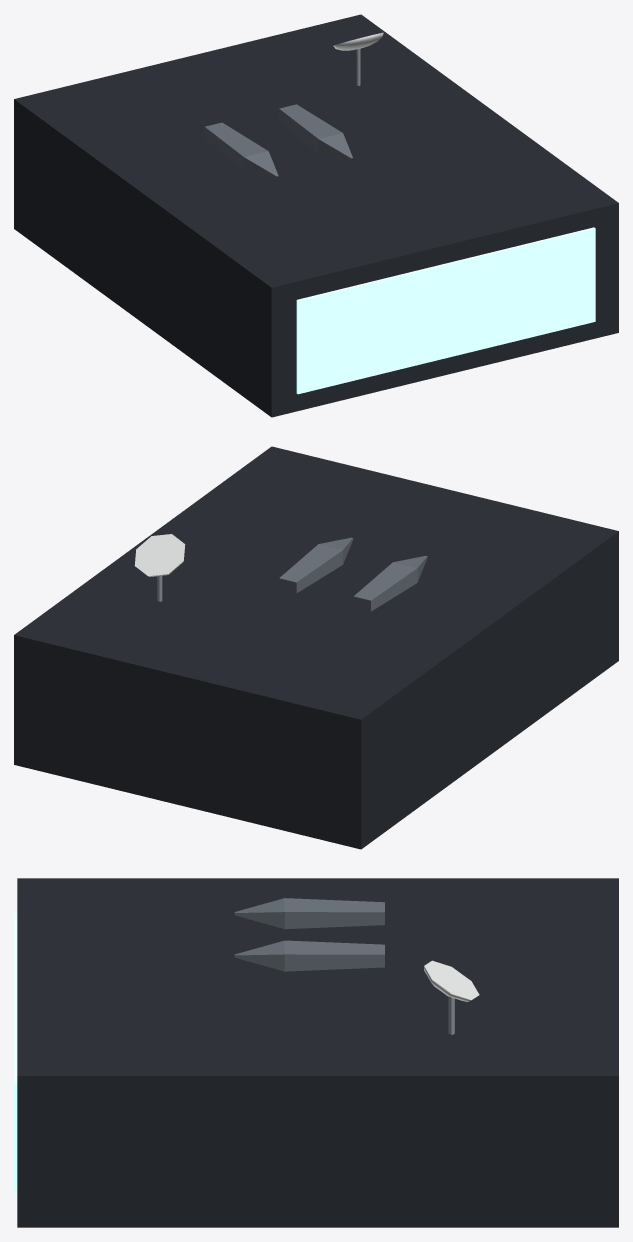
Rendered from space_orbital_hangar_t2_lod1.glb.
3 views of the same model, one above another, from view 1: azimuth 30°, elevation 25°; view 2: azimuth 150°, elevation 25°; view 3: azimuth 270°, elevation 25° (orthographic). The views are drawn at different scales.
Parts seen in each view (by area): view 1: body, door, antenna_0; view 2: body, antenna_0; view 3: body, antenna_0, door.
Part boxes in pixels (bbox=[...]): body: bbox=[14, 14, 618, 417]; door: bbox=[296, 227, 595, 394]; antenna_0: bbox=[333, 32, 383, 85]; body: bbox=[14, 446, 618, 849]; antenna_0: bbox=[134, 534, 185, 601]; body: bbox=[17, 878, 618, 1227]; antenna_0: bbox=[424, 960, 479, 1034]; door: bbox=[14, 913, 17, 1192].
Bounding box in the file's own units: 14 × 7.24 × 18.1.
